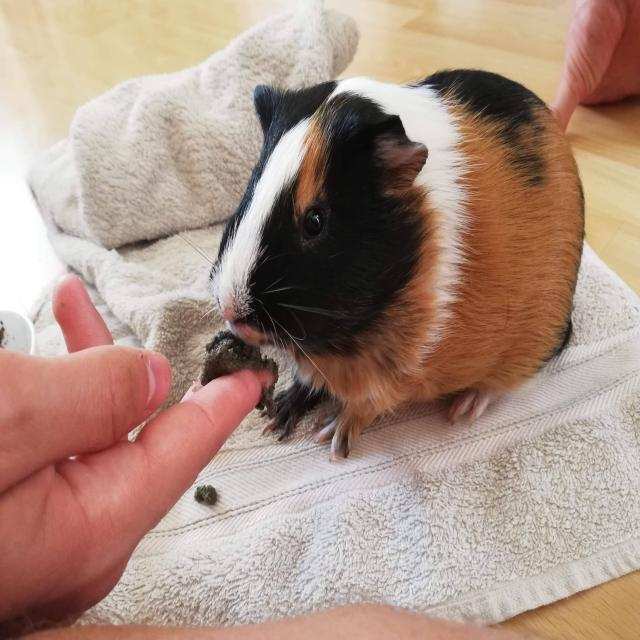guinea pig: (206, 62, 590, 462)
